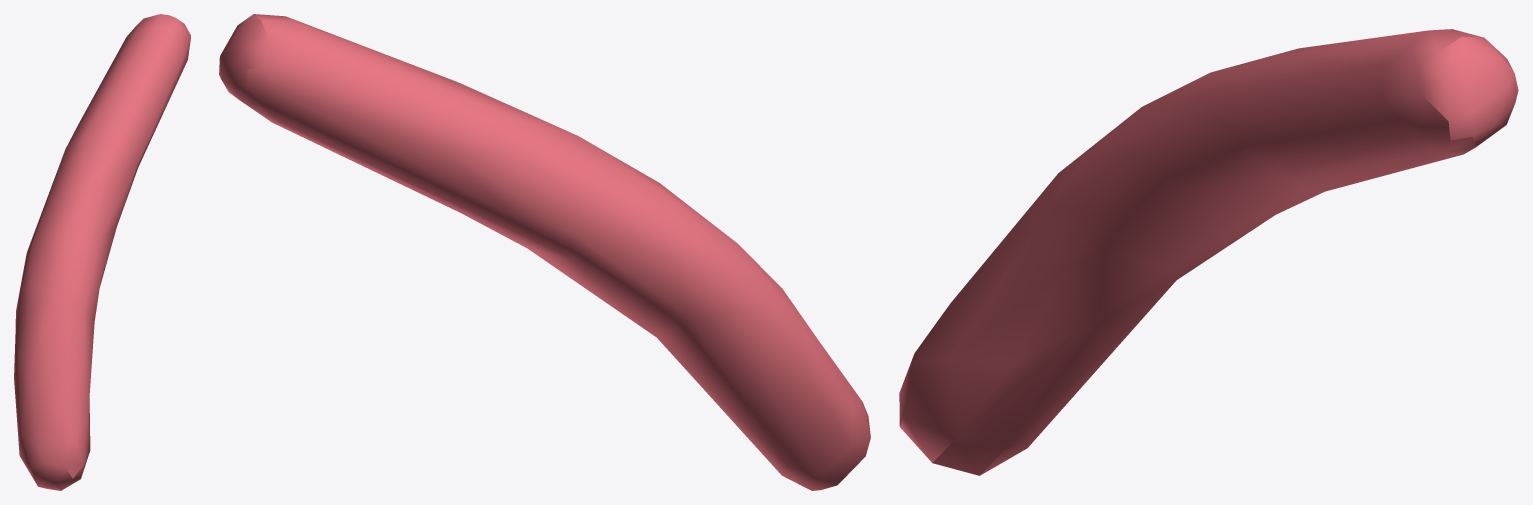
Rendered from fma8661_fj6095.glb.
3 views of the same model, side by side, from view 1: azimuth 30°, elevation 25°; view 2: azimuth 150°, elevation 25°; view 3: azimuth 270°, elevation 25° (orthographic). The views are drawn at different scales.
Visible parts, largest first — view 1: FMA8661_FJ6095; view 2: FMA8661_FJ6095; view 3: FMA8661_FJ6095.
Part boxes in pixels (x1=…): FMA8661_FJ6095: x1=14, y1=14, x2=190, y2=490; FMA8661_FJ6095: x1=219, y1=14, x2=870, y2=490; FMA8661_FJ6095: x1=899, y1=29, x2=1518, y2=475.
Bounding box in the file's own units: 0.0114 × 0.0125 × 0.0107.
